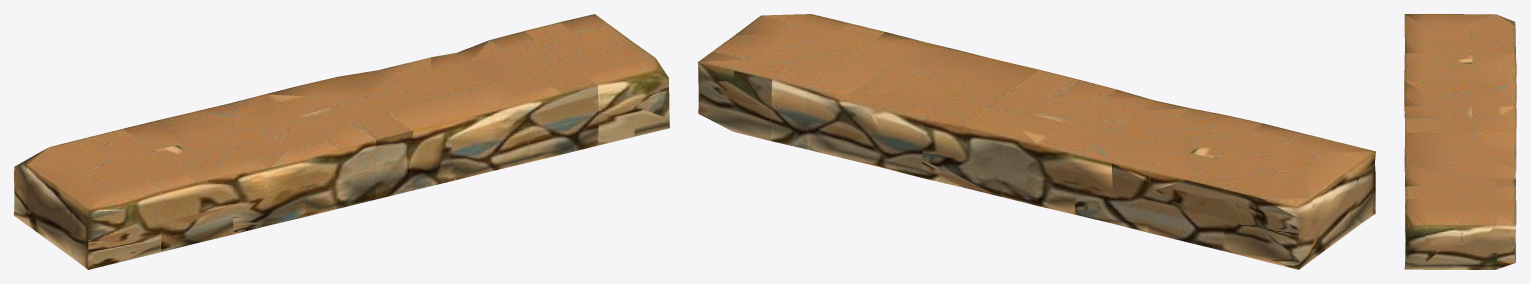
The model's file is trim.lod1.glb.
3 views of the same model, side by side, from view 1: azimuth 30°, elevation 25°; view 2: azimuth 150°, elevation 25°; view 3: azimuth 270°, elevation 25° (orthographic). The views are drawn at different scales.
Bounding box in the file's own units: 2 × 0.2 × 0.45.
Materials: 1 (1 with a texture image).
